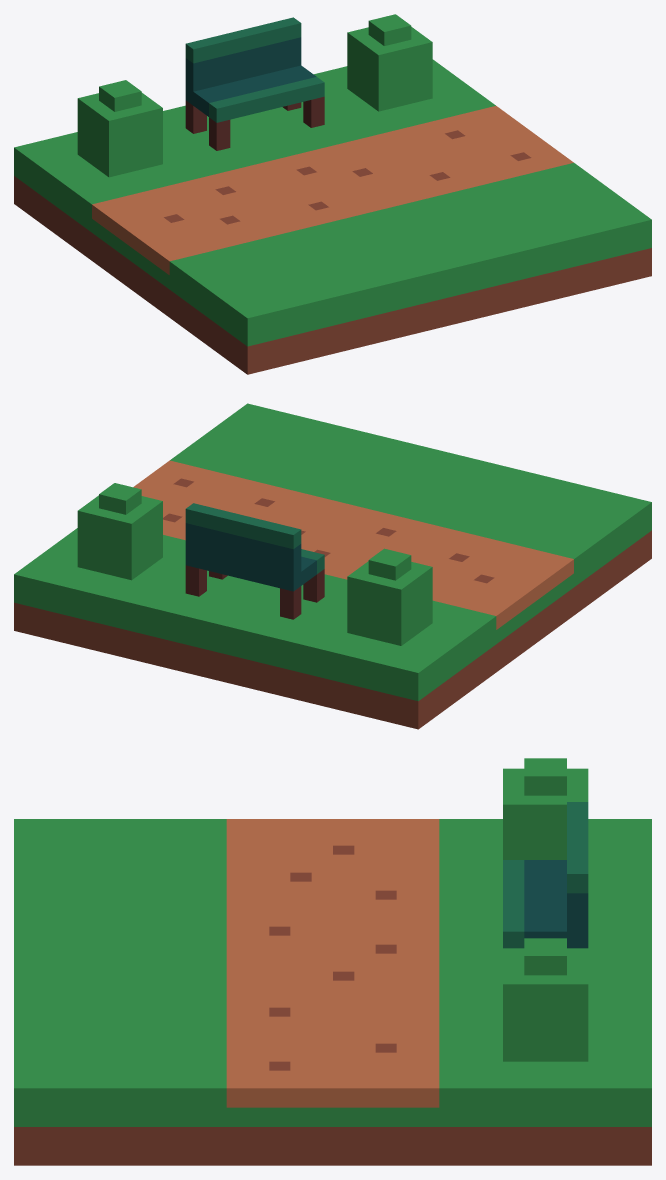
File: ParTile01.obj
3 renders of one model, top to bottom at view 1: azimuth 30°, elevation 25°; view 2: azimuth 150°, elevation 25°; view 3: azimuth 270°, elevation 25°, orthographic. The views are drawn at different scales.
Size of the model in its own units: 3 by 1 by 3.
Materials: 1 (1 with a texture image).
